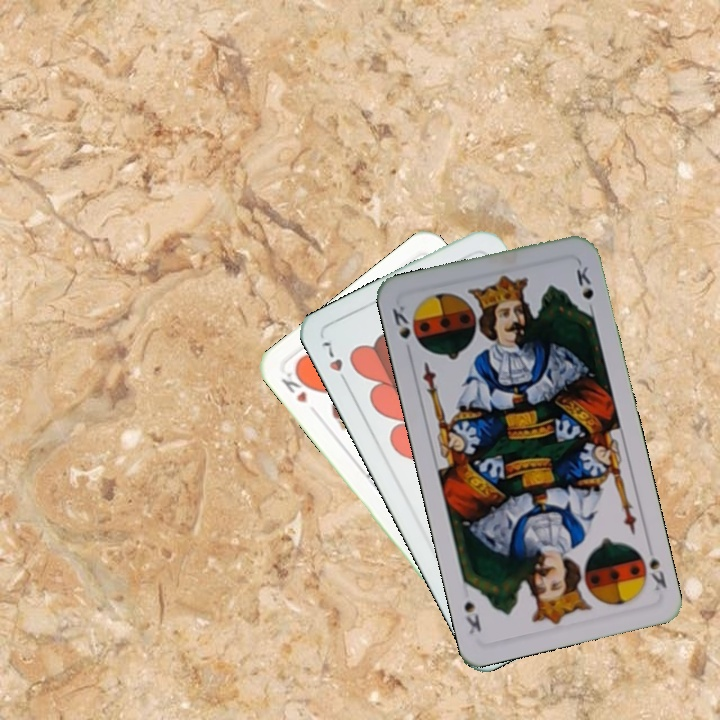H7: (317, 337, 352, 390)
HK: (277, 363, 315, 406)
SK: (643, 539, 670, 593), (388, 300, 413, 342)
